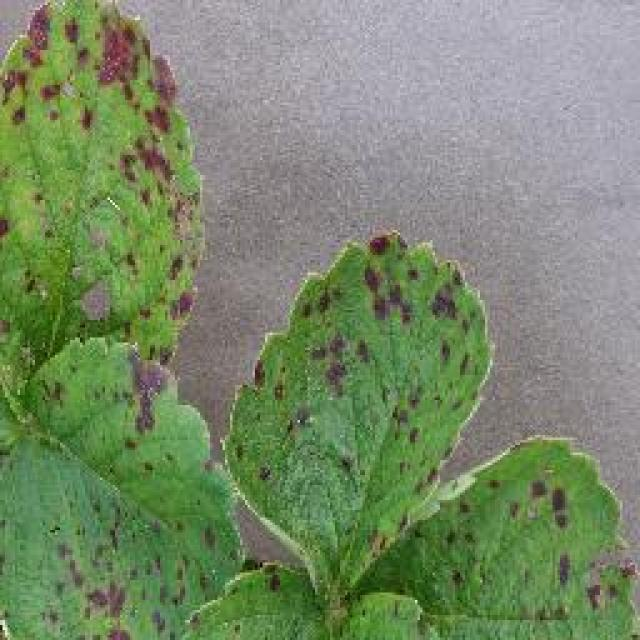Strawberry leaf scorch: (27, 34, 168, 448)
